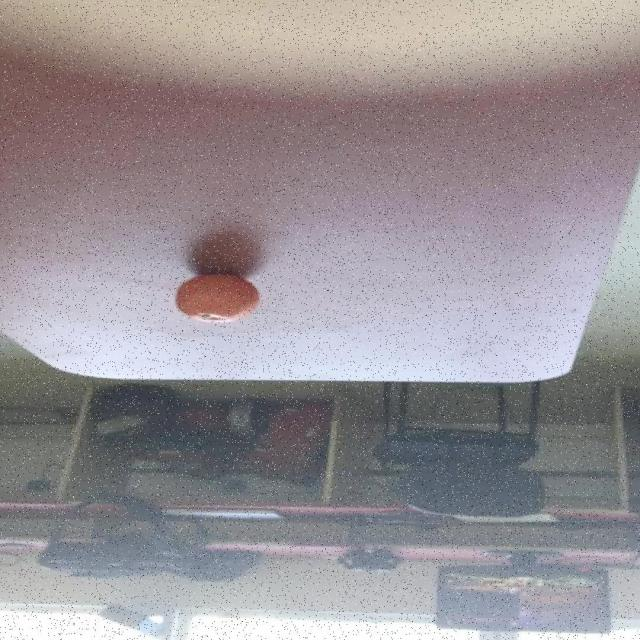Orange: (175, 273, 262, 323)
